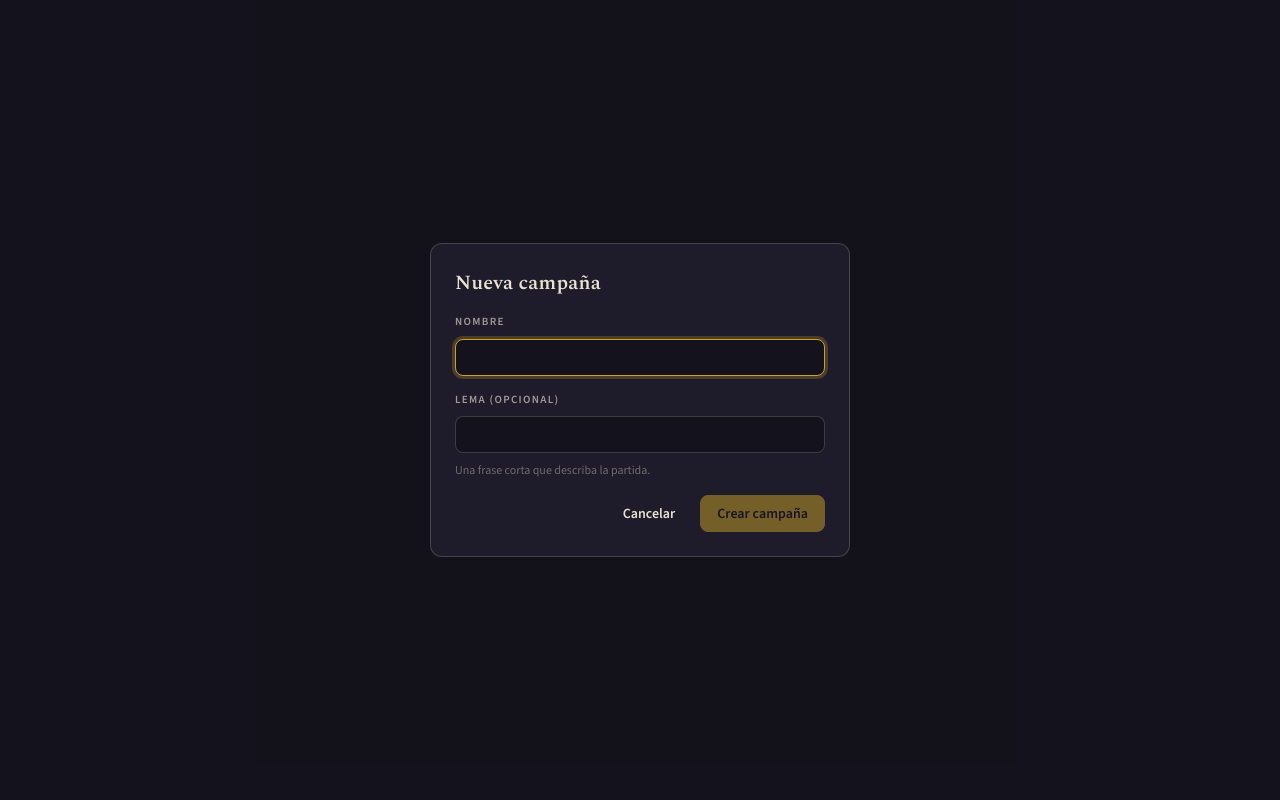
CreateCampaignModal › keeps submit disabled until a name is entered
Expected: the button "Crear campaña" is disabled, [700,495,825,532]
Type "Nueva Aventura" into the field labelled "Nombre" at x=640, y=357, box [455,338,825,376]
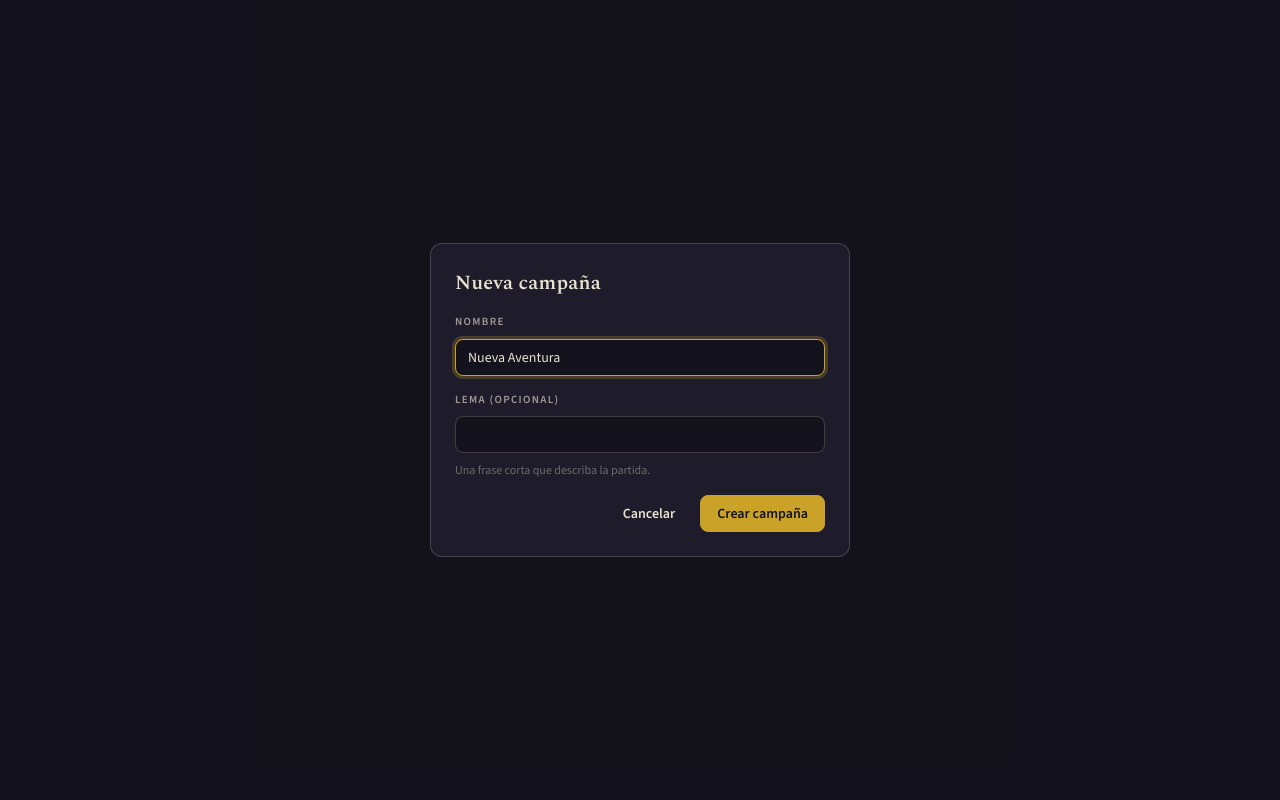
Now the button "Crear campaña" is enabled, box [700,495,825,532]
